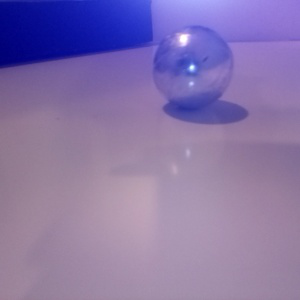alive_ball: (154, 26, 233, 110)
